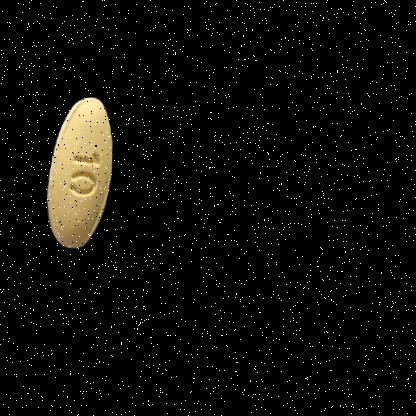tovast10: (30, 84, 142, 270)
